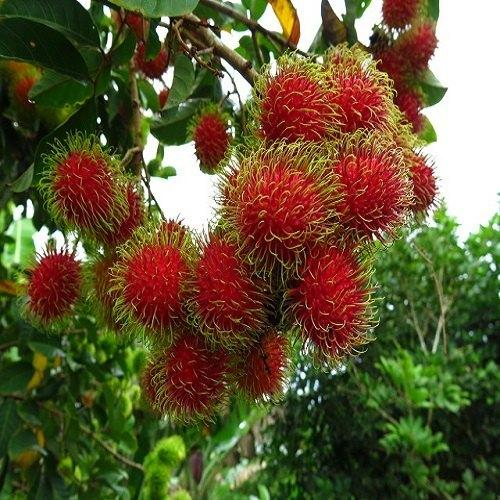chom_chom: (218, 146, 329, 268), (113, 226, 202, 348)
